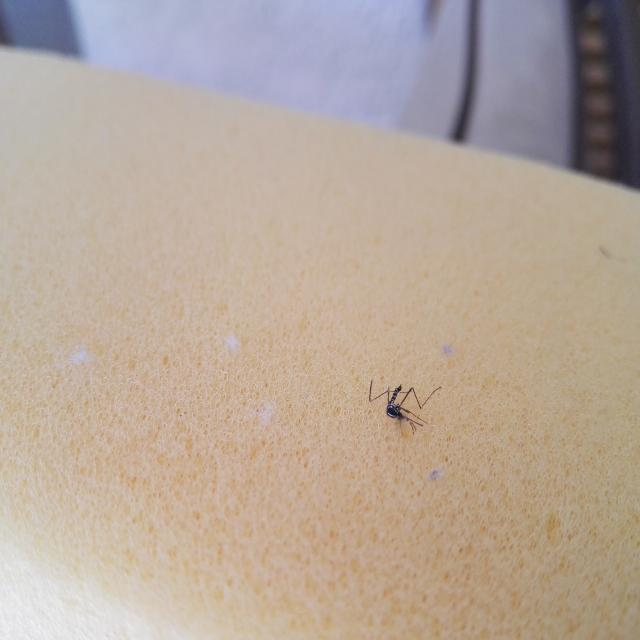albopictus: (364, 367, 444, 439)
